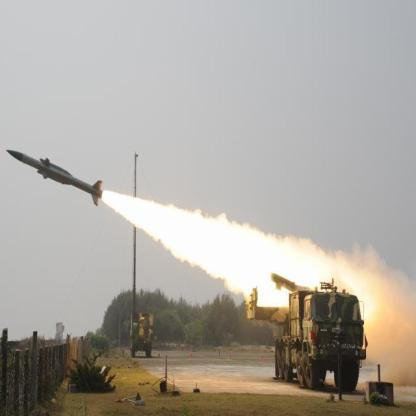MIL_TBM: (4, 142, 106, 210)
